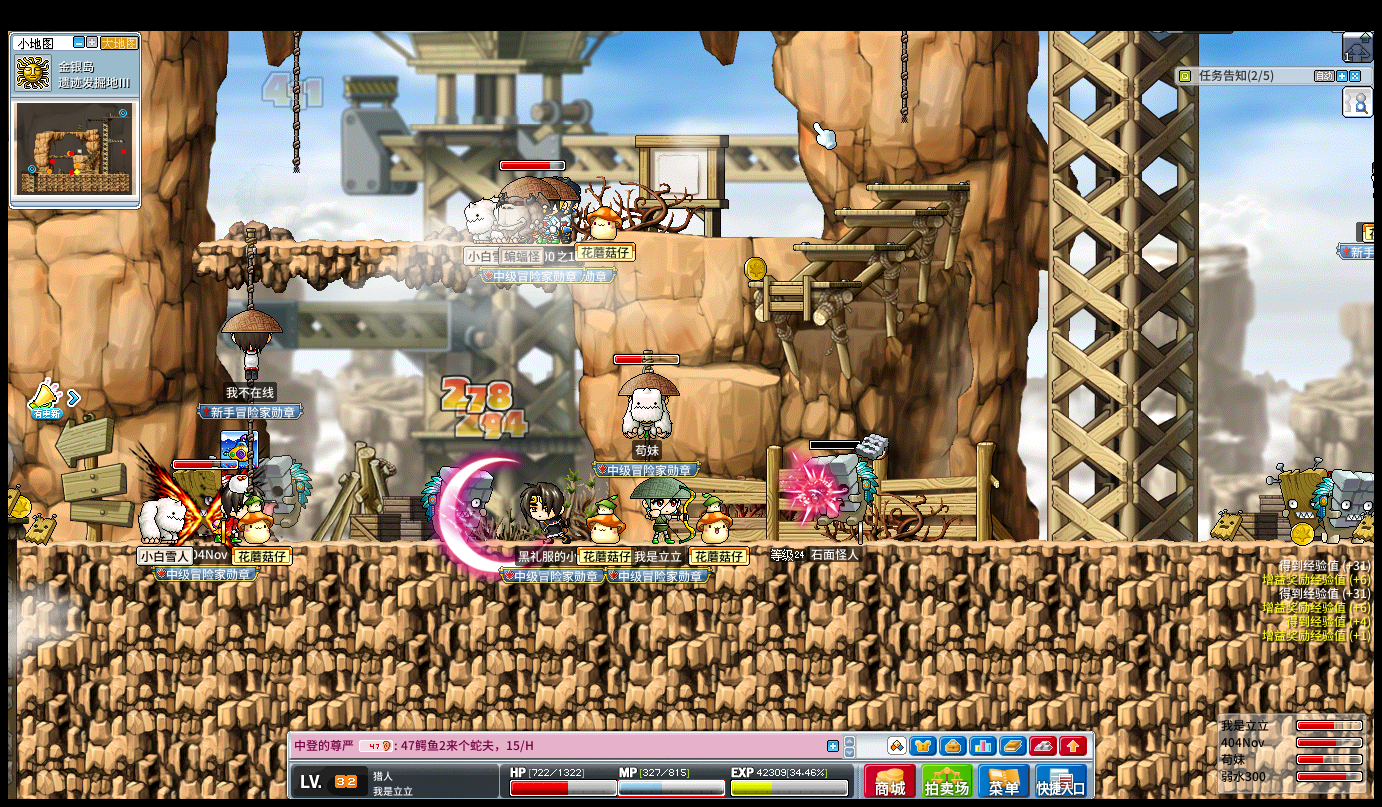floor: (197, 237, 571, 248), (674, 364, 779, 385), (676, 232, 828, 240), (742, 278, 860, 288), (832, 205, 947, 215), (791, 243, 904, 251), (832, 207, 944, 214), (866, 184, 966, 191)
monster: (419, 465, 495, 543), (1312, 466, 1376, 543), (827, 454, 880, 533), (261, 455, 312, 535), (1270, 461, 1316, 543)
rope: (290, 30, 299, 172), (243, 225, 255, 308), (897, 30, 907, 121)
